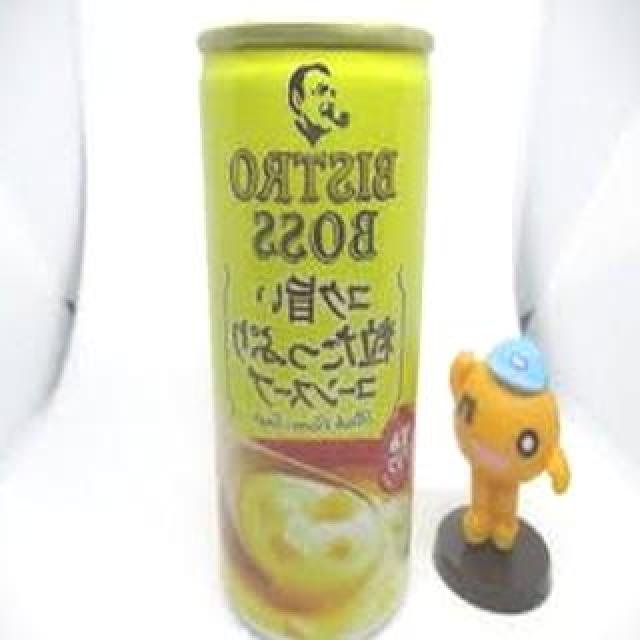Can: (202, 13, 432, 631)
